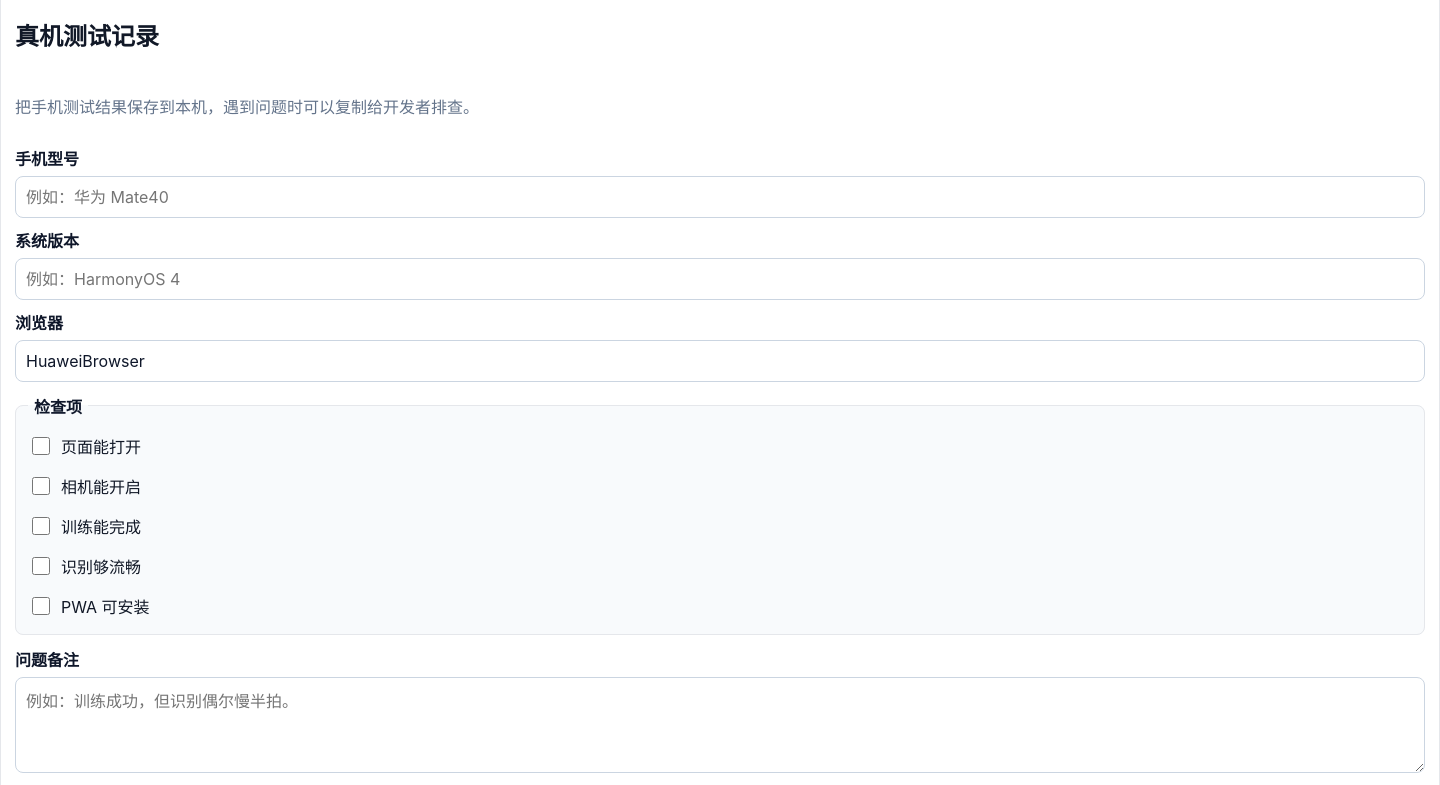
Test: RealDeviceFeedbackPanel › saves a local phone test record
Type "华为 Mate40" into the field labelled "手机型号" at (720, 197), box [15,176,1425,218]
Type "HarmonyOS" into the field labelled "系统版本" at (720, 279), box [15,258,1425,300]
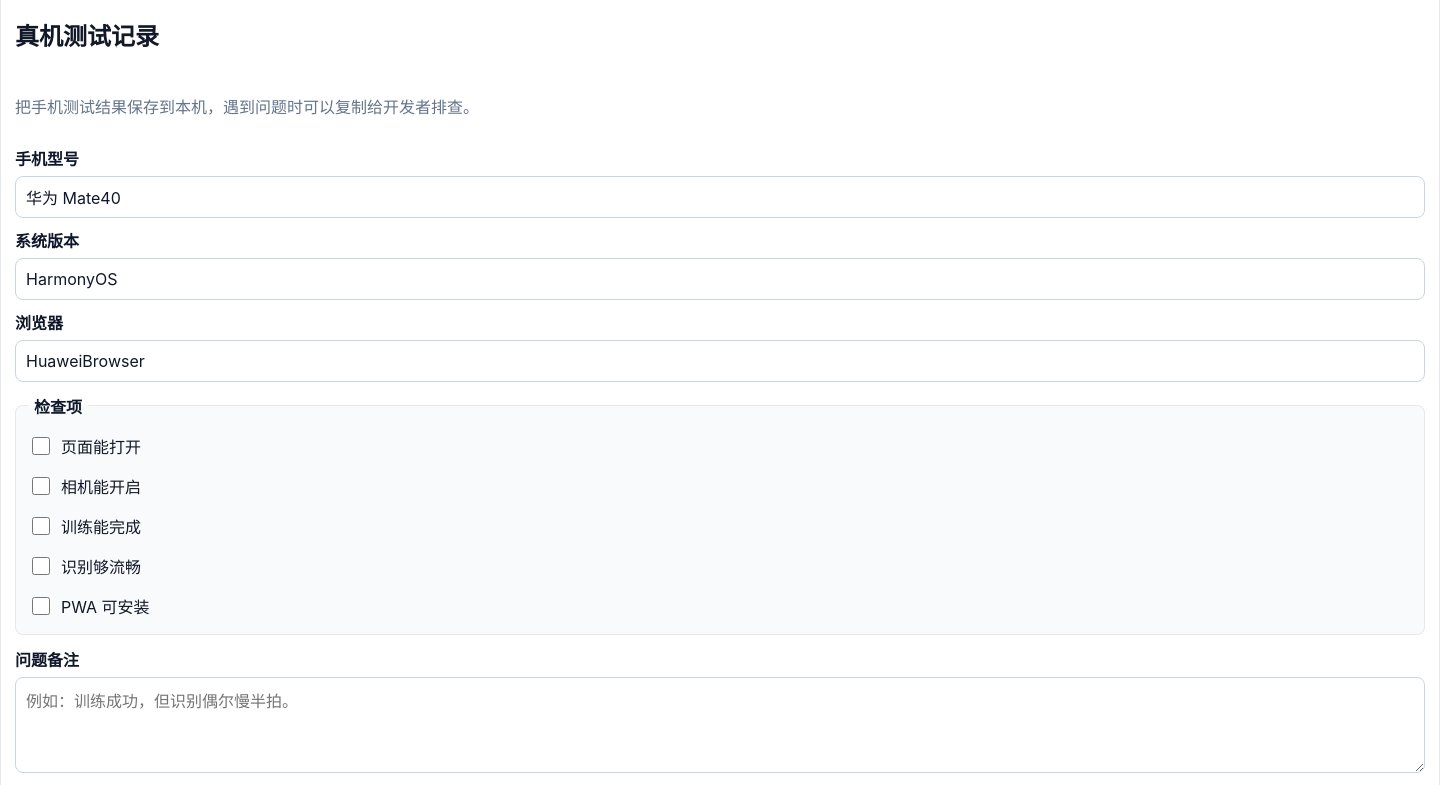
Click the checkbox labelled "页面能打开" at (41, 446), box [32,437,50,455]
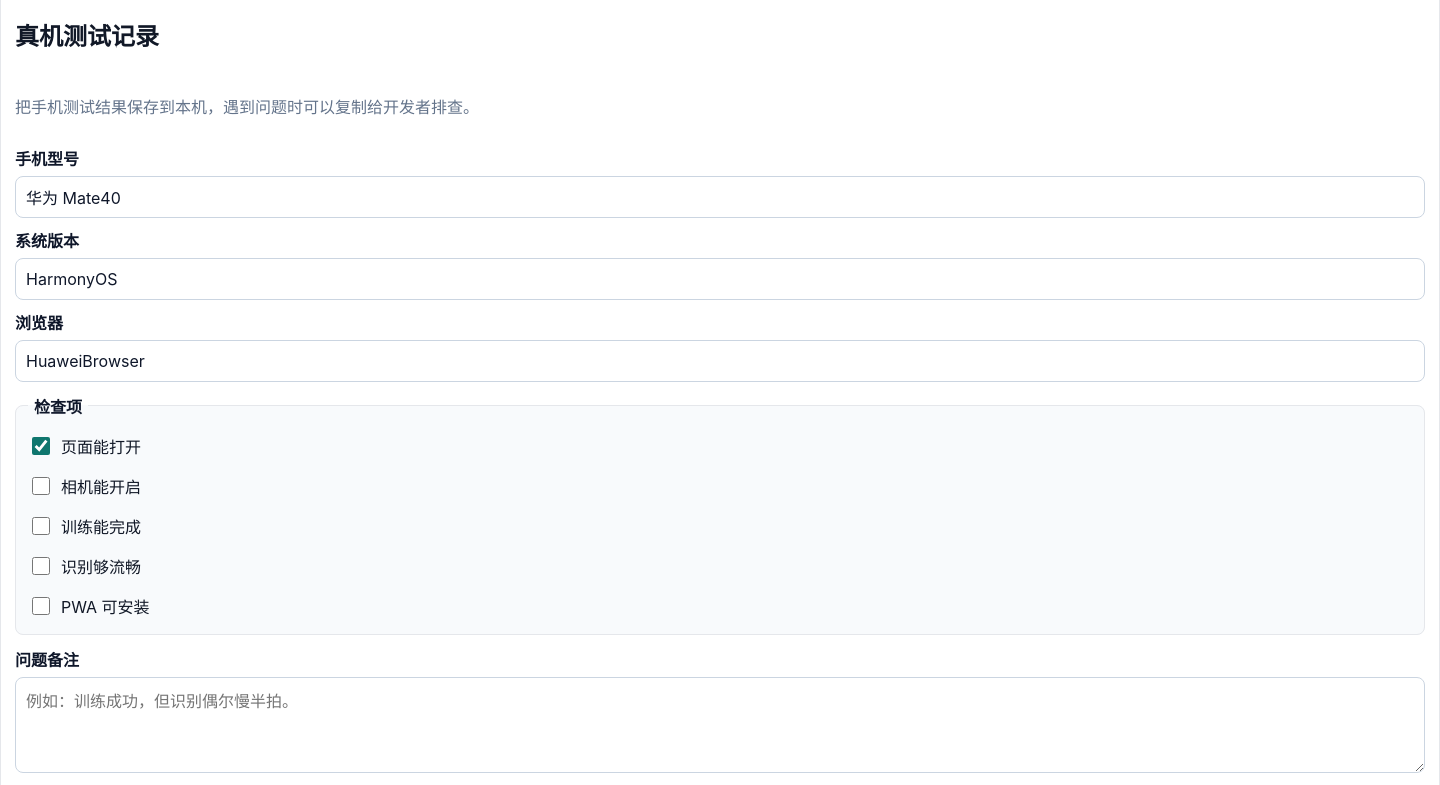
Click the checkbox labelled "相机能开启" at (41, 486), box [32,477,50,495]
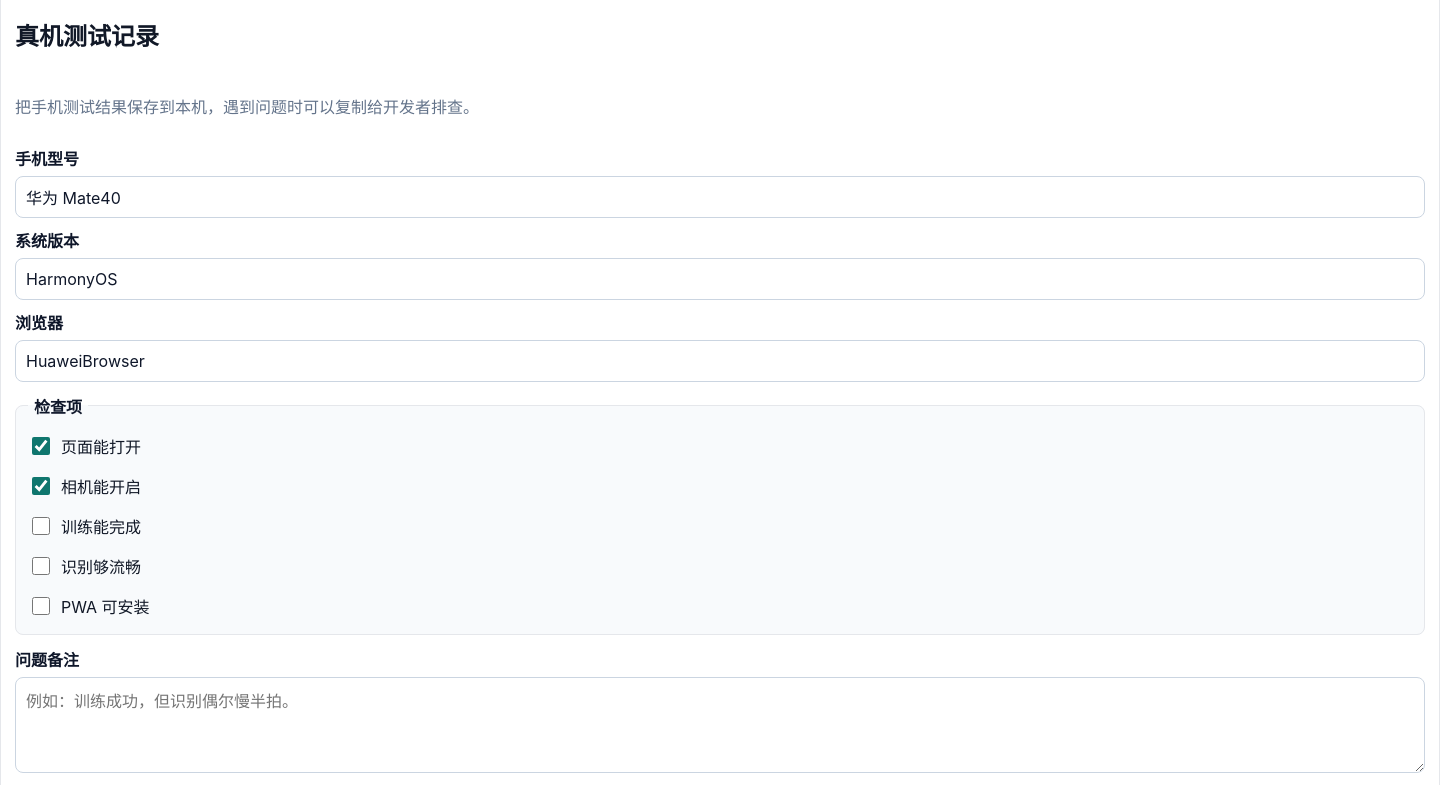
Click the checkbox labelled "训练能完成" at (41, 526), box [32,517,50,535]
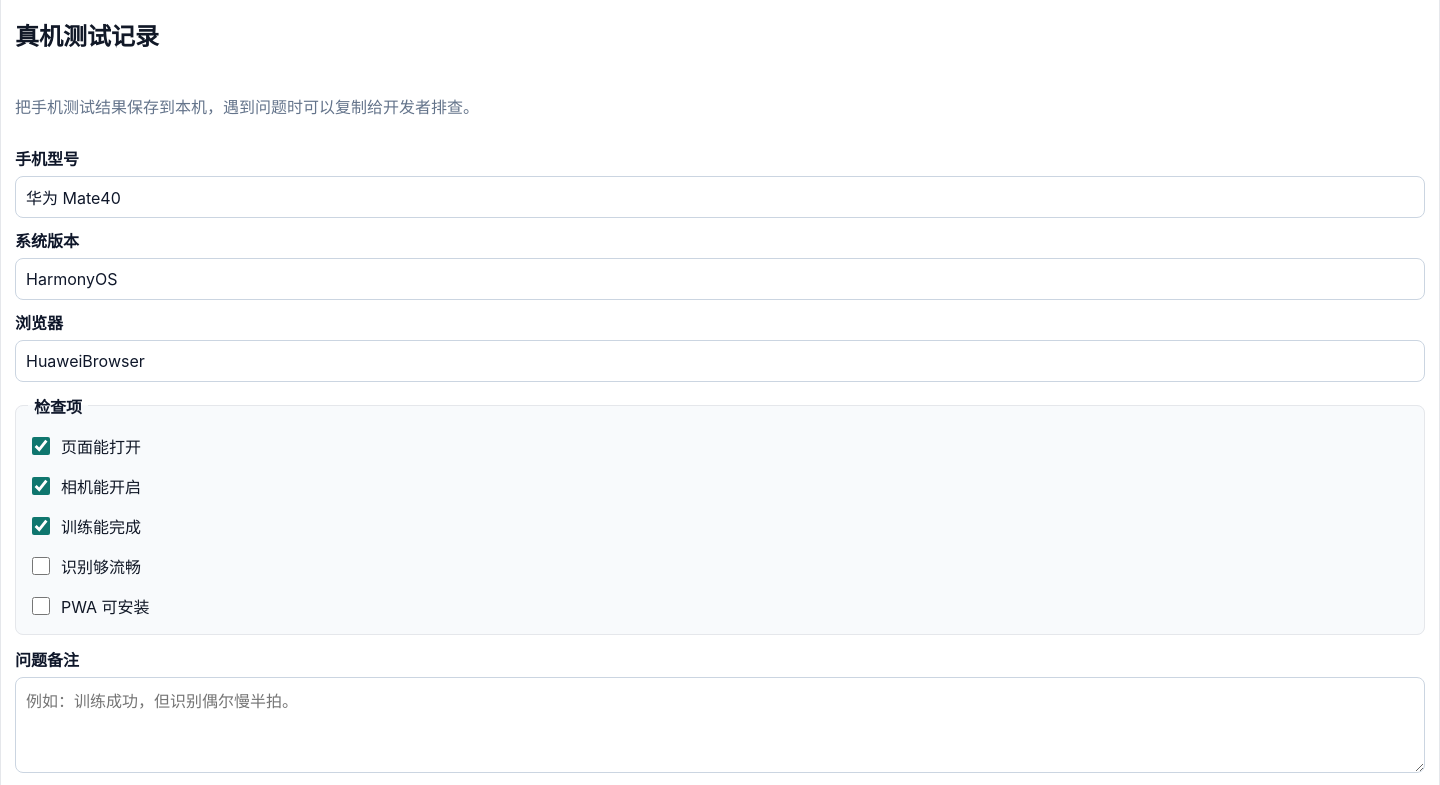
Type "识别现在比较流畅。" into the text box labelled "问题备注" at (720, 725), box [15,677,1425,773]
(page scrolled)
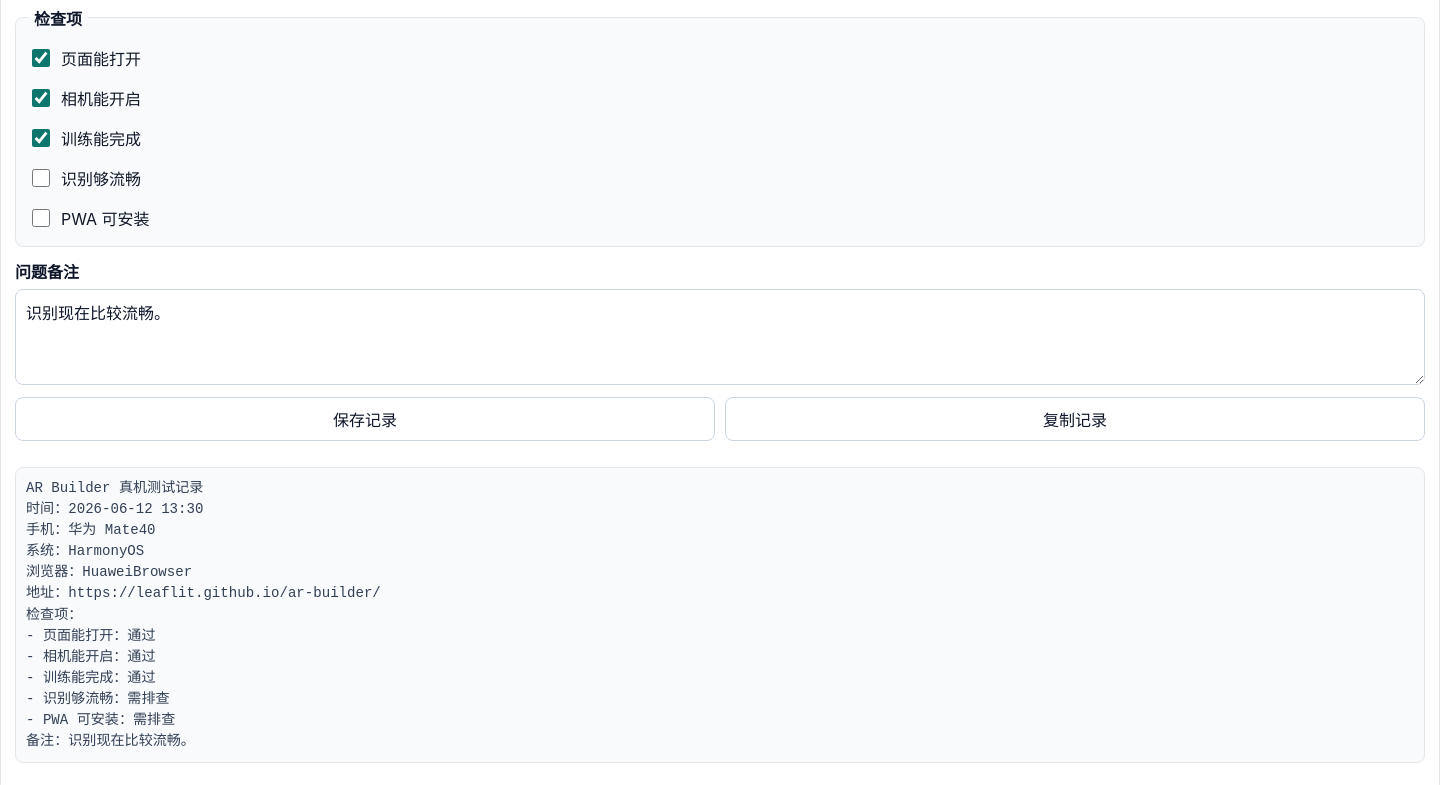
Click the button "保存记录" at (365, 419), box [15,397,715,441]
(page scrolled)
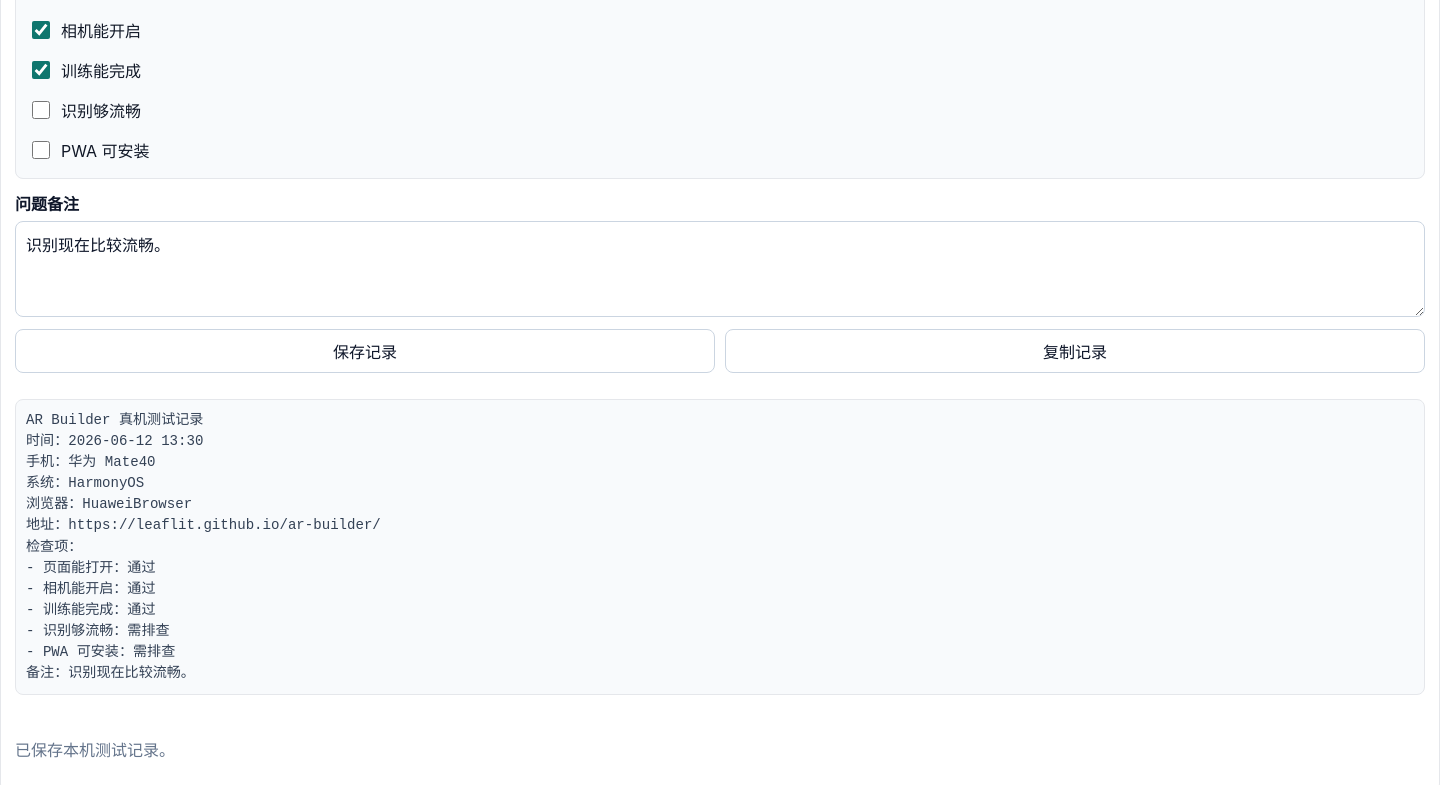
Expected: the message reads "已保存本机测试记录。", [15,740,175,760]
